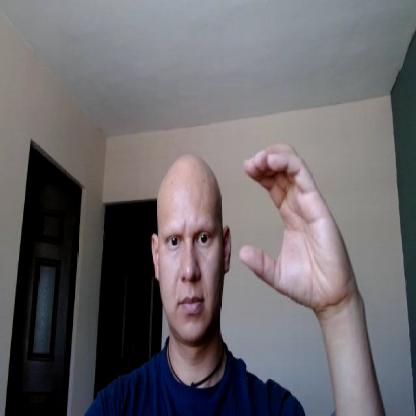C: (239, 140, 348, 310)
